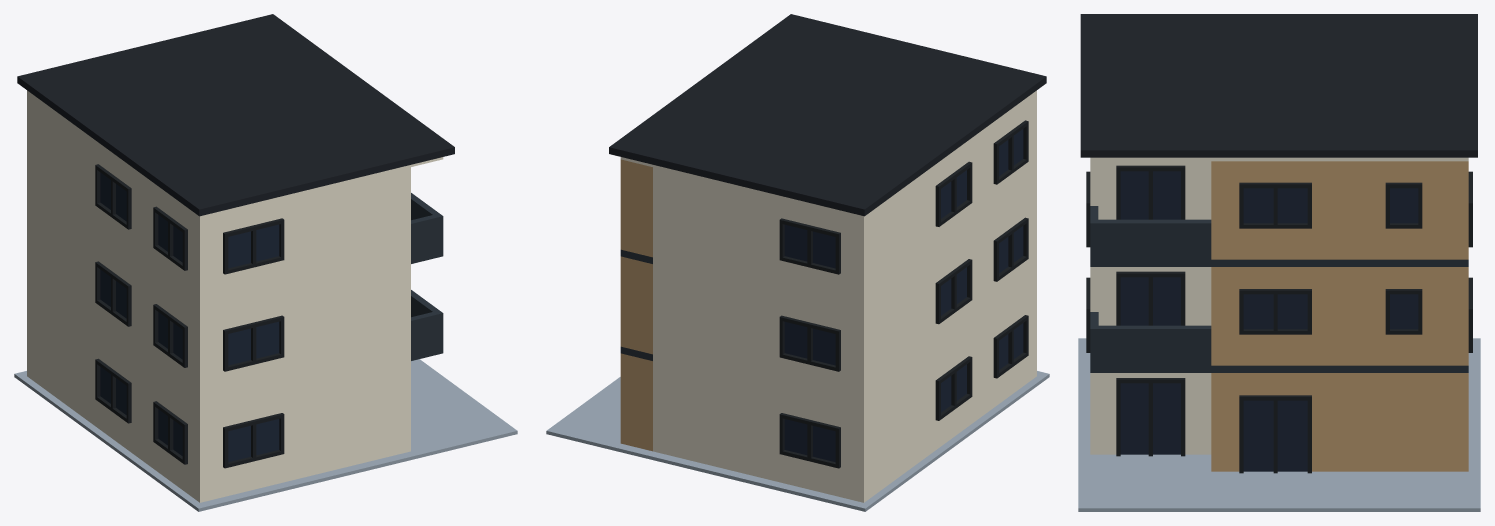
The model's file is apart3.glb.
3 views of the same model, side by side, from view 1: azimuth 30°, elevation 25°; view 2: azimuth 150°, elevation 25°; view 3: azimuth 270°, elevation 25° (orthographic). The views are drawn at different scales.
Parts seen in each view (by area): view 1: apart3; view 2: apart3; view 3: apart3.
Part boxes in pixels (x1,y1,x2,y2): apart3: (14,14,517,511); apart3: (546,14,1049,511); apart3: (1078,14,1480,511).
Bounding box in the file's own units: 10 × 9.02 × 10.
